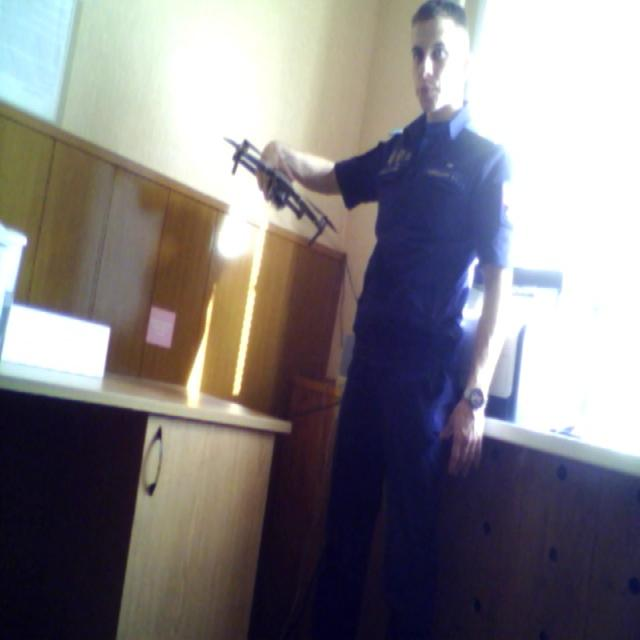drone: (217, 118, 338, 257)
